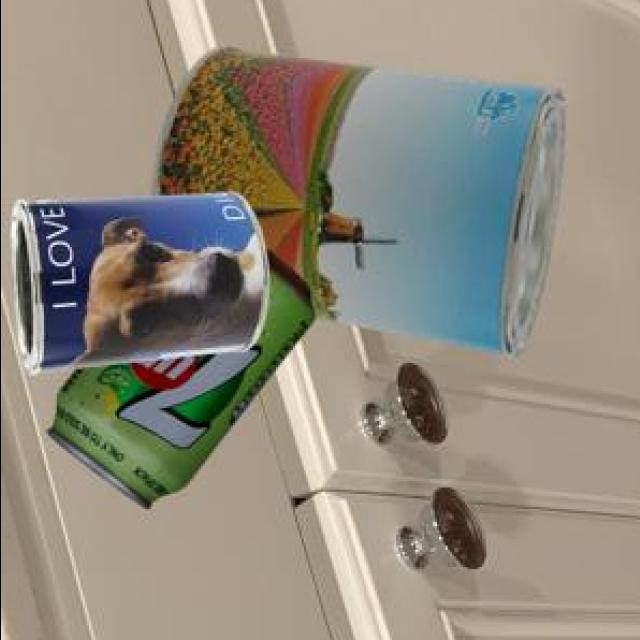logam: (149, 50, 562, 362), (44, 252, 310, 512), (8, 194, 265, 377)
